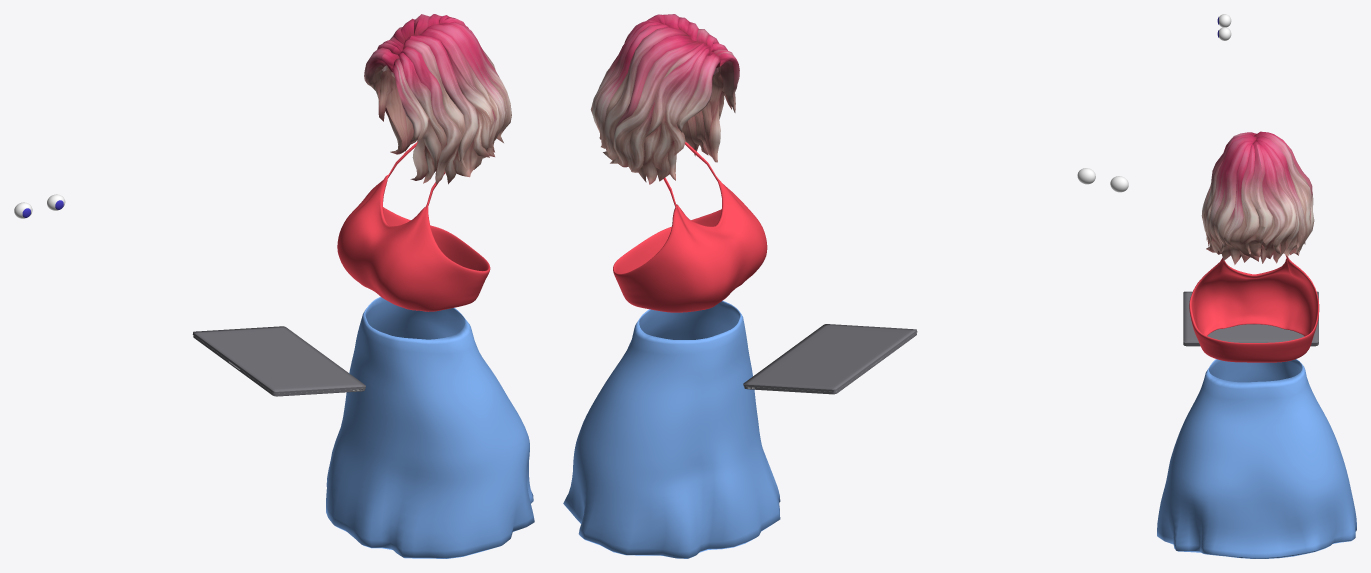
Rendered from start-clothes (1).fbx.
The picture shows the model from 3 angles, left to right: view 1: azimuth 30°, elevation 25°; view 2: azimuth 150°, elevation 25°; view 3: azimuth 270°, elevation 25°; orthographic projection. The views are drawn at different scales.
Visible parts, largest first — view 1: etek.tek, saç.tek, bluz2.tek, macBook_BottomPart; view 2: etek.tek, saç.tek, bluz2.tek, macBook_BottomPart; view 3: etek.tek, saç.tek, bluz2.tek, macBook_BottomPart.
Boxes of the visible parts, x1,y1,x2,y2 form: etek.tek: (326,296,534,558); saç.tek: (364,14,511,184); bluz2.tek: (337,142,490,311); macBook_BottomPart: (192,326,365,396); etek.tek: (563,300,780,558); saç.tek: (590,14,739,184); bluz2.tek: (613,142,767,312); macBook_BottomPart: (743,324,917,394); etek.tek: (1157,359,1356,558); saç.tek: (1201,131,1314,264); bluz2.tek: (1189,255,1319,362); macBook_BottomPart: (1183,291,1318,346).
Bounding box in the file's own units: 1.14 × 1.03 × 0.4621.
Materials: 13 (1 with a texture image).
